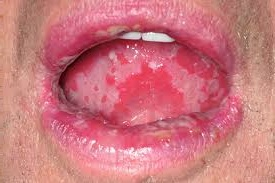Ulcer: (66, 47, 167, 116), (159, 62, 219, 115), (148, 117, 202, 134)
